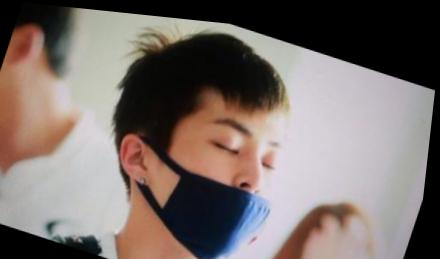WRONG: (144, 80, 306, 259)
